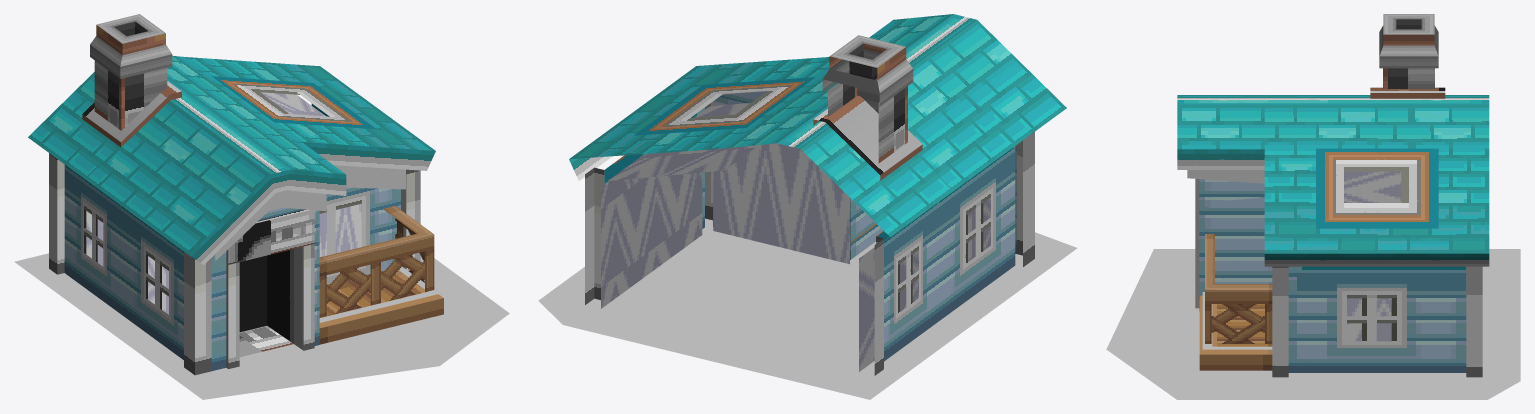
The model's file is c12_build_01.dae.
3 renders of one model, left to right at view 1: azimuth 30°, elevation 25°; view 2: azimuth 150°, elevation 25°; view 3: azimuth 270°, elevation 25°, orthographic. The views are drawn at different scales.
Parts seen in each view (by area): view 1: c12_build_01; view 2: c12_build_01; view 3: c12_build_01.
Part boxes in pixels (left/top/right/bottom): c12_build_01: left=14, top=14, right=509, bottom=399; c12_build_01: left=538, top=14, right=1077, bottom=399; c12_build_01: left=1106, top=14, right=1520, bottom=399.
Size of the model in its own units: 90.29 by 69.89 by 104.
